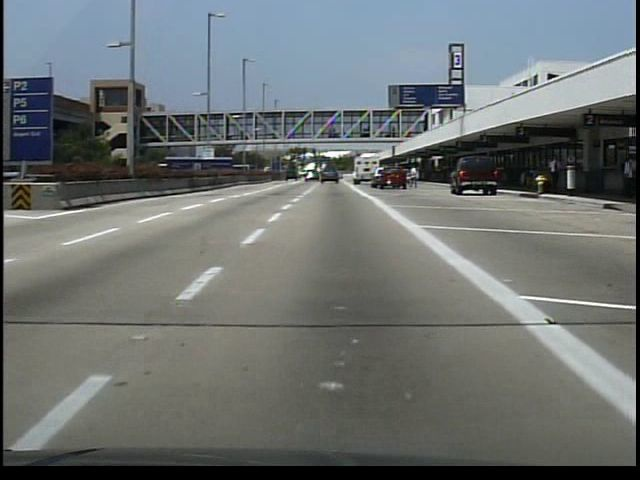person: (544, 154, 564, 198), (408, 168, 422, 190)
